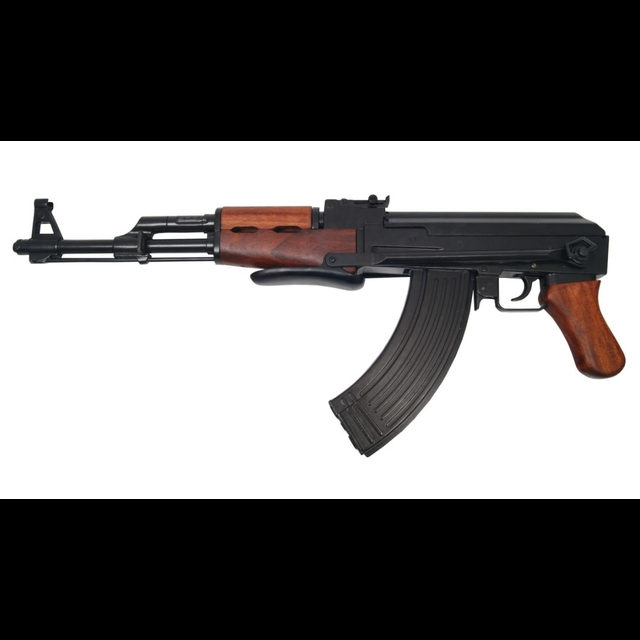AK47: (11, 186, 630, 457)
